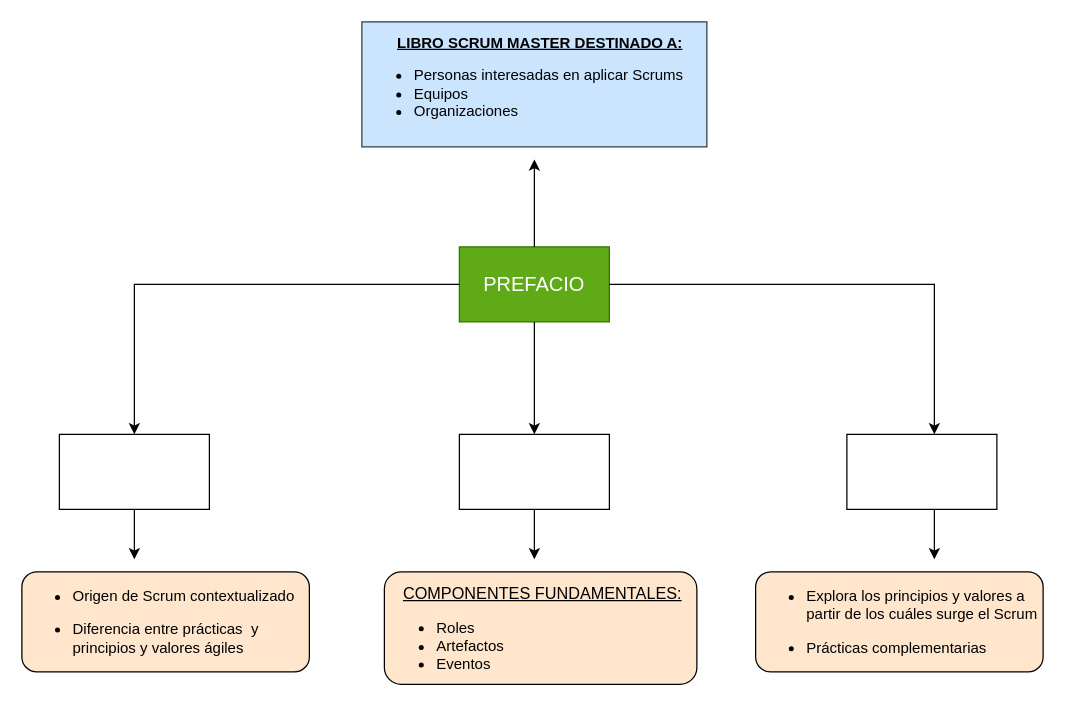
Some shapes in this 1065 by 710 pixel diagram are drawn without their labels. The centre of each missing label's shape, as x and y in pixels:
"INTRODUCCIÓN" belongs at point (133, 471).
"PRIMERA PARTE" belongs at point (533, 471).
"SEGUNDA PARTE" belongs at point (921, 471).
